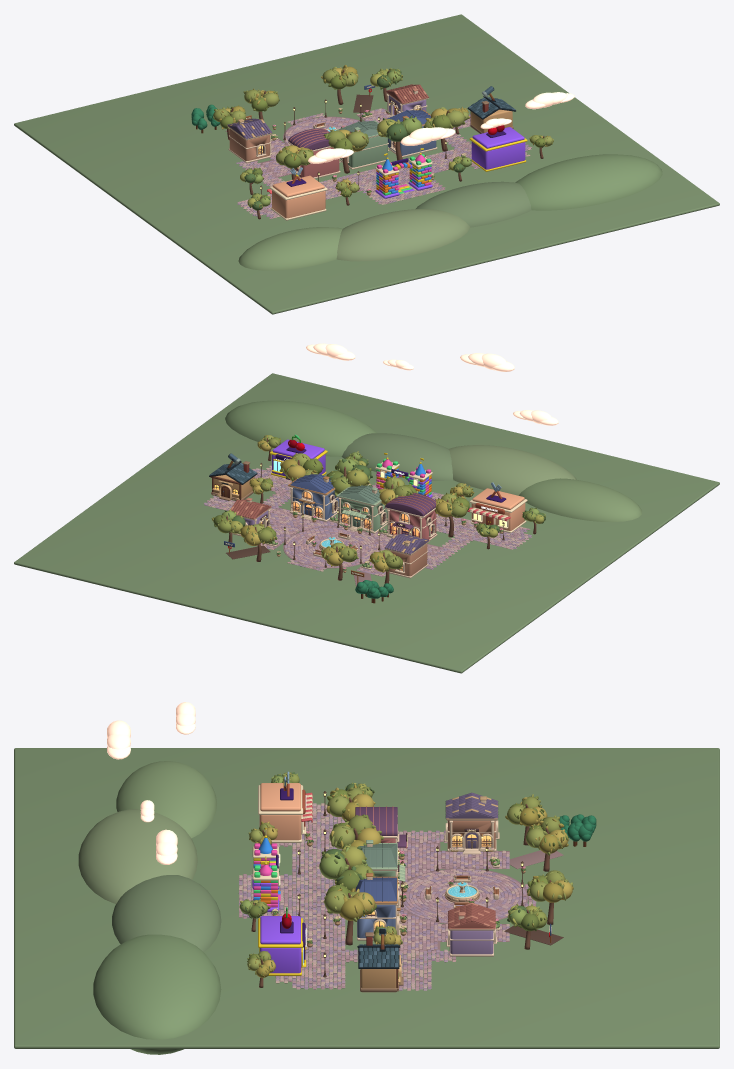
The model's file is room_city.glb.
The picture shows the model from 3 angles, top to bottom: view 1: azimuth 30°, elevation 25°; view 2: azimuth 150°, elevation 25°; view 3: azimuth 270°, elevation 25°; orthographic projection. The views are drawn at different scales.
Parts seen in each view (by area): view 1: Ground.003, Park hill 3.003, Park hill 1.003, Plaza cobblestones.003, Park hill 0.003, Park hill 2.003, Restaurant.003, Casino.003, Lounge, Cinema, Shop, Smithy.003 (+14 smaller); view 2: Ground.003, Plaza cobblestones.003, Park hill 3.003, Park hill 1.003, Park hill 0.003, Park hill 2.003, Cinema, Shop, Games, Restaurant.003, Smithy.003, Lounge (+14 smaller); view 3: Ground.003, Plaza cobblestones.003, Park hill 3.003, Park hill 1.003, Park hill 2.003, Park hill 0.003, Lounge, Restaurant.003, MyHouse, Casino.003, Smithy.003, Games (+19 smaller).
Part boxes in pixels (x1,y1,x2,y2): Ground.003: [14, 14, 719, 314]; Park hill 3.003: [515, 154, 662, 210]; Park hill 1.003: [336, 209, 470, 261]; Plaza cobblestones.003: [236, 108, 531, 218]; Park hill 0.003: [238, 227, 342, 270]; Park hill 2.003: [416, 181, 531, 227]; Restaurant.003: [267, 175, 327, 220]; Casino.003: [469, 127, 527, 171]; Lounge: [227, 118, 272, 163]; Cinema: [288, 128, 340, 178]; Shop: [336, 120, 388, 169]; Smithy.003: [467, 96, 515, 133]; Ground.003: [14, 373, 719, 673]; Plaza cobblestones.003: [204, 465, 531, 576]; Park hill 3.003: [225, 400, 376, 456]; Park hill 1.003: [448, 445, 576, 495]; Park hill 0.003: [519, 478, 641, 522]; Park hill 2.003: [341, 433, 453, 480]; Cinema: [385, 493, 437, 540]; Shop: [336, 485, 387, 533]; Games: [288, 474, 338, 521]; Restaurant.003: [467, 488, 527, 533]; Smithy.003: [209, 461, 257, 500]; Lounge: [384, 533, 429, 578]; Ground.003: [14, 748, 719, 1048]; Plaza cobblestones.003: [238, 803, 536, 990]; Park hill 3.003: [93, 934, 221, 1054]; Park hill 1.003: [78, 809, 197, 903]; Park hill 2.003: [112, 875, 221, 951]; Park hill 0.003: [116, 761, 216, 838]; Lounge: [444, 792, 499, 854]; Restaurant.003: [258, 783, 312, 842]; MyHouse: [446, 902, 496, 956]; Casino.003: [258, 916, 306, 975]; Smithy.003: [357, 932, 403, 992]; Games: [355, 873, 401, 940].
Bounding box in the file's own units: 74 × 21.53 × 74.
